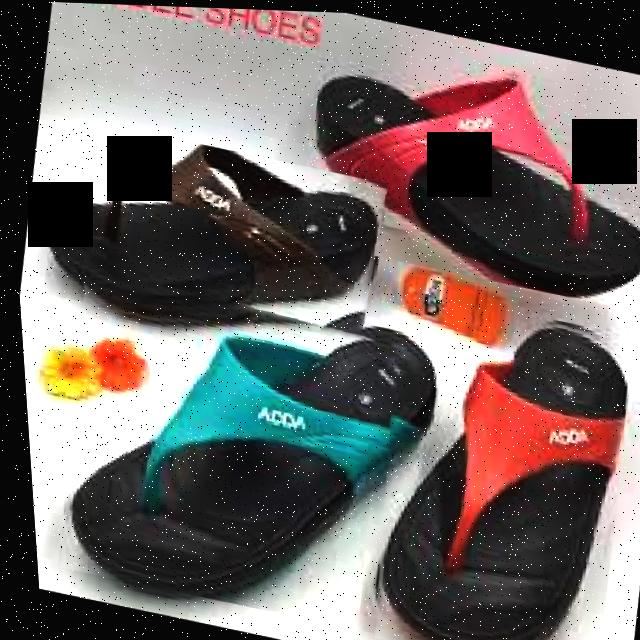shoe: (29, 263, 444, 637), (333, 278, 640, 640), (287, 24, 640, 309), (29, 114, 395, 362)
